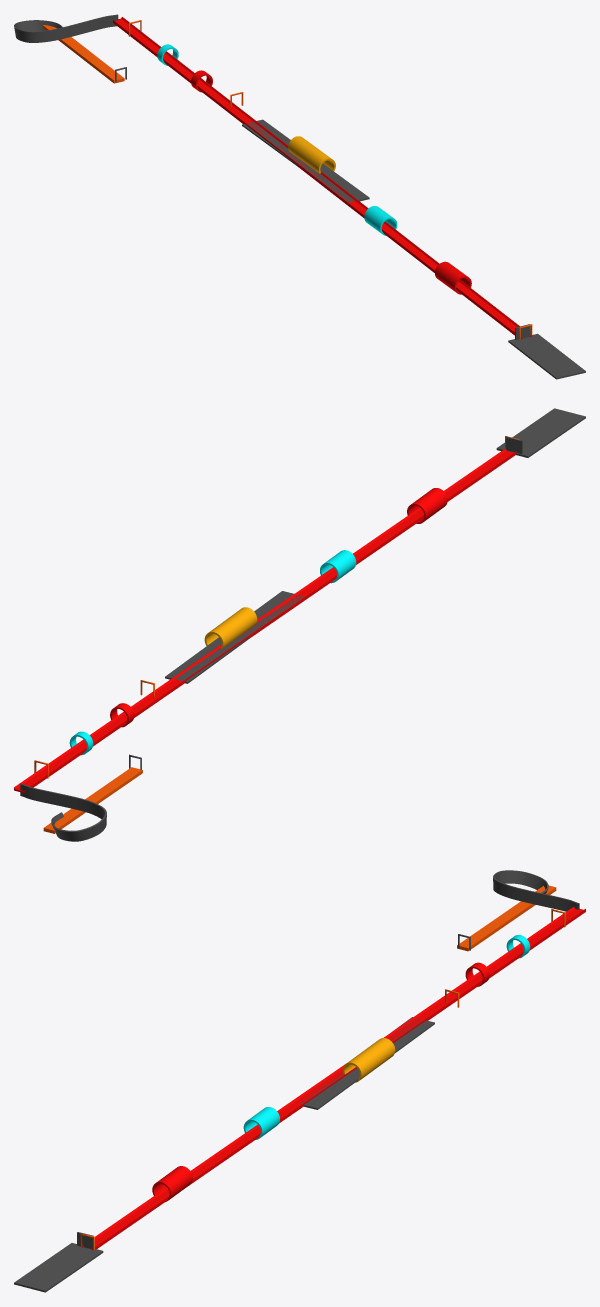
3 views of the same model, one above another, from view 1: azimuth 30°, elevation 25°; view 2: azimuth 150°, elevation 25°; view 3: azimuth 330°, elevation 25° (orthographic). The views are drawn at different scales.
Visible parts, largest first — view 1: rod_linkage; view 2: rod_linkage; view 3: rod_linkage.
Boxes of the visible parts, <box> form: rod_linkage: <box>14,14,585,379</box>; rod_linkage: <box>14,408,585,841</box>; rod_linkage: <box>14,870,585,1292</box>.
Bounding box in the file's own units: 0.5594 × 0.1496 × 4.99.
